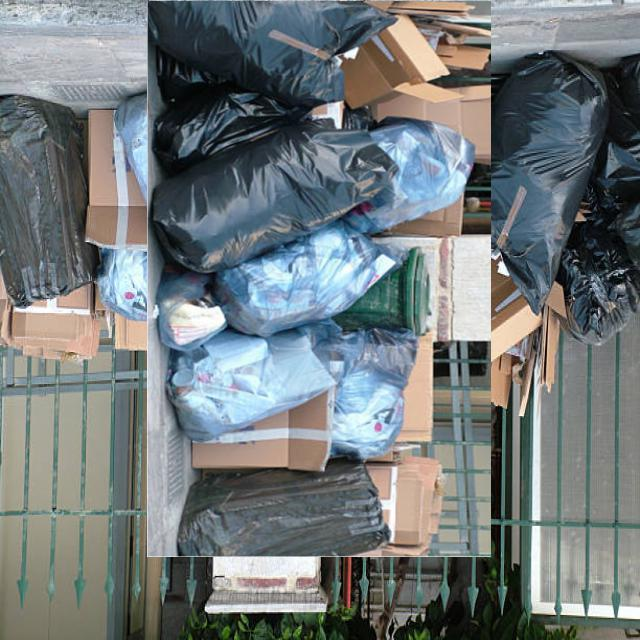Trashbag: (487, 50, 611, 316), (160, 125, 375, 247), (154, 0, 366, 105), (186, 464, 377, 575), (0, 95, 90, 305)
